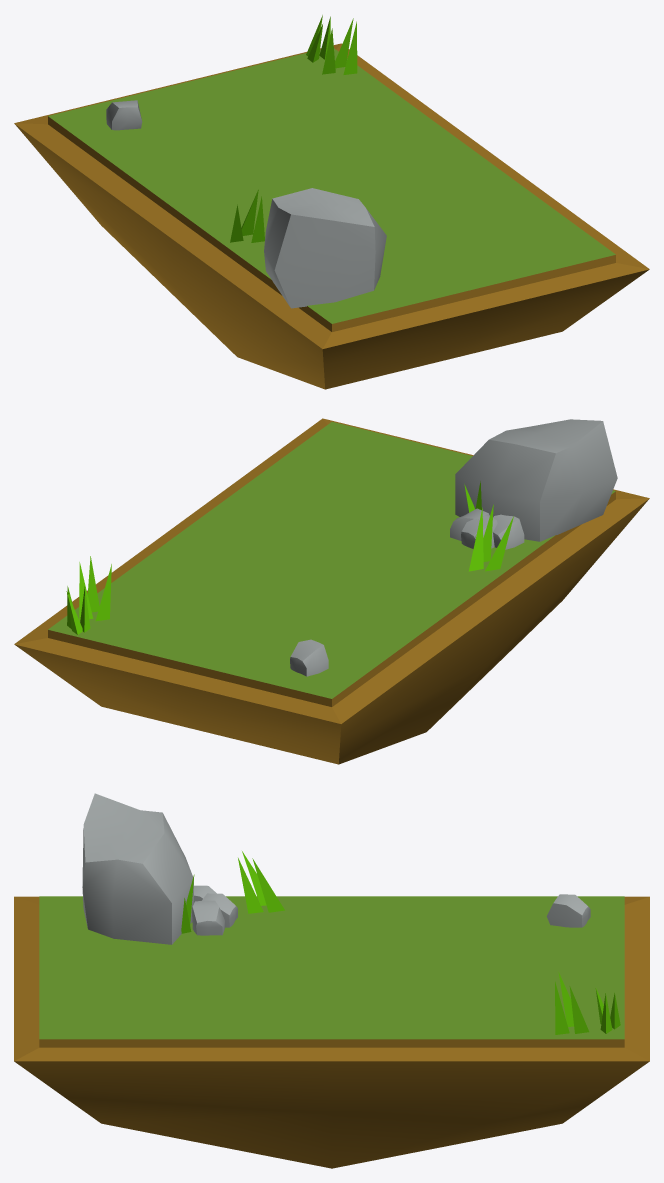
File: PLATFORM2 1.fbx
3 views of the same model, one above another, from view 1: azimuth 30°, elevation 25°; view 2: azimuth 150°, elevation 25°; view 3: azimuth 270°, elevation 25° (orthographic). The views are drawn at different scales.
Visible parts, largest first — view 1: Platform; view 2: Platform; view 3: Platform.
Part boxes in pixels (left/top/right/bottom): Platform: left=14, top=15, right=649, bottom=389; Platform: left=14, top=418, right=649, bottom=764; Platform: left=14, top=793, right=649, bottom=1168.
Size of the model in its own units: 38.09 by 30.39 by 60.74.
